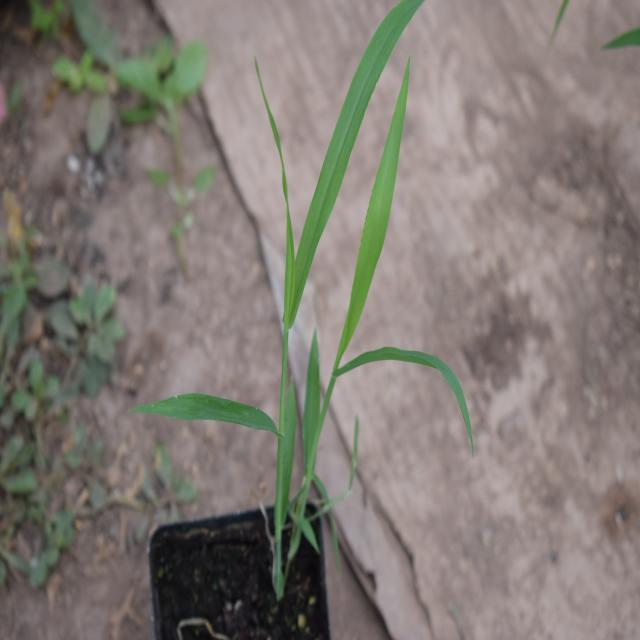crabgrass: (213, 24, 461, 534)
